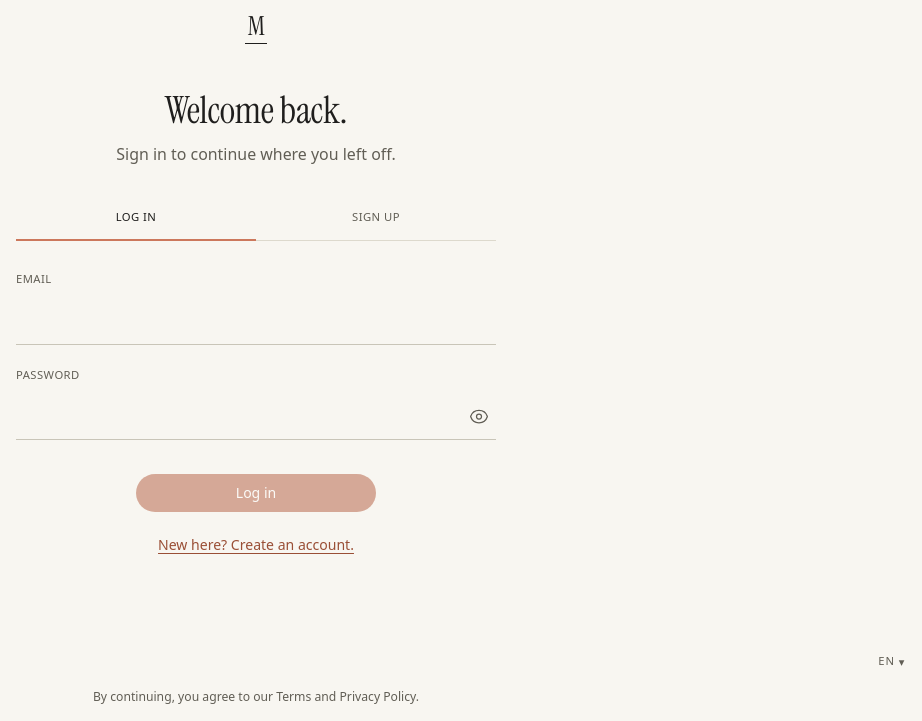
Scenario: AuthComponent › surfaces inline email-format error on submit
Type "not-an-email" into the field named "email" at (256, 320), box [16,296,496,345]
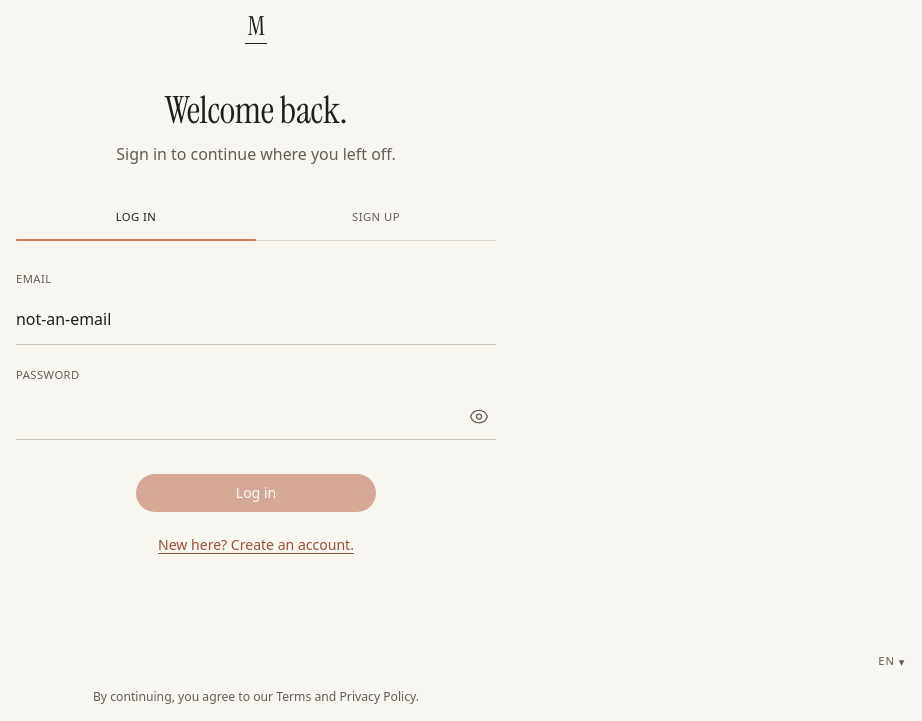
Type "hunter22" into the password field named "password" at (256, 416), box [16,392,496,440]
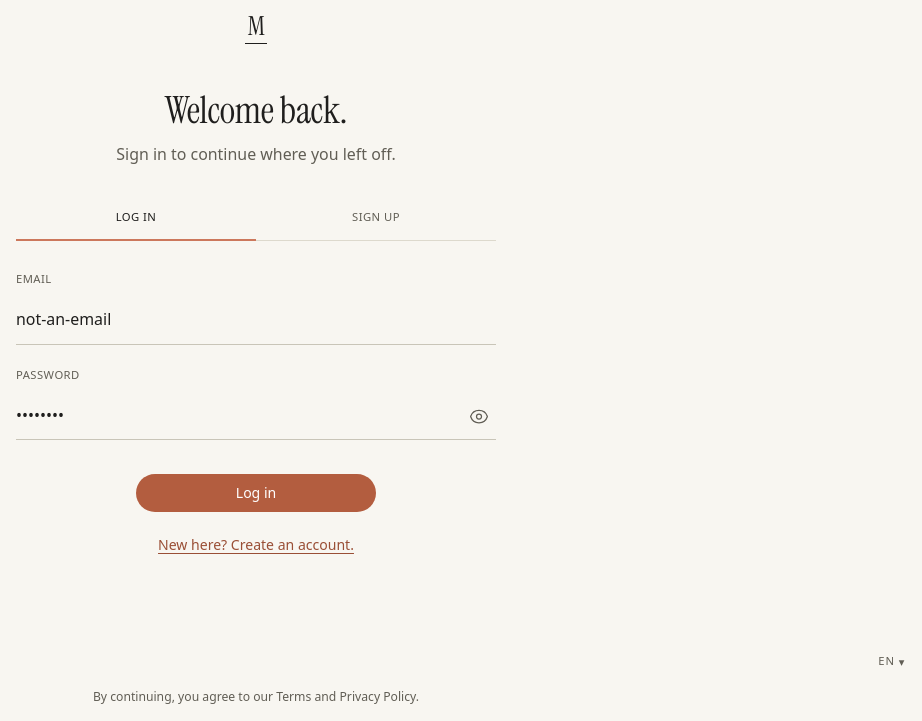
Submit the form, box [16,271,496,555]
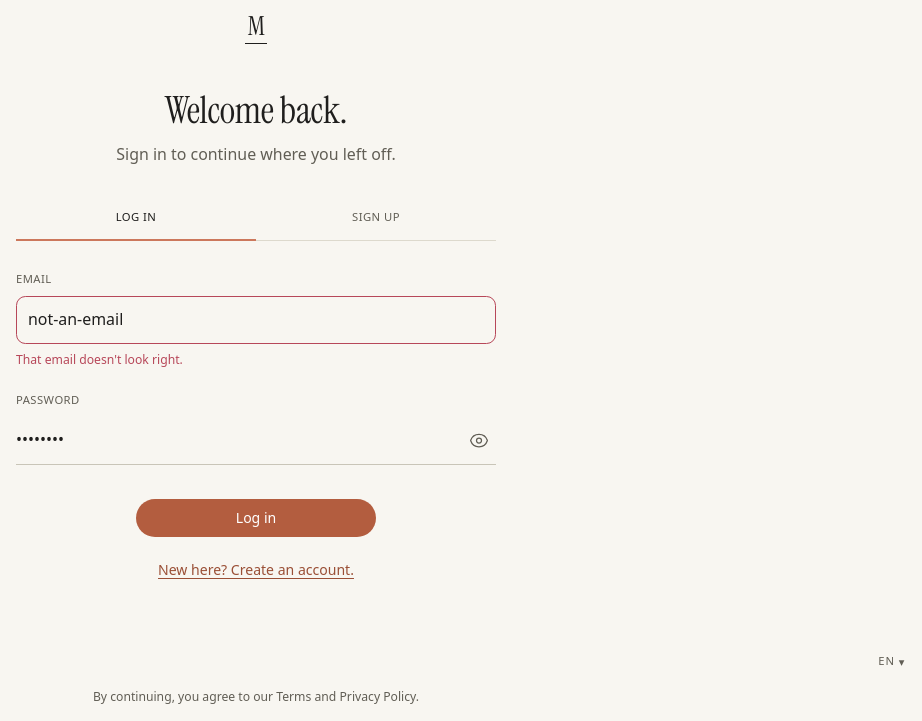
Now the text "That email doesn't look right." is shown, box [16,351,183,368]
